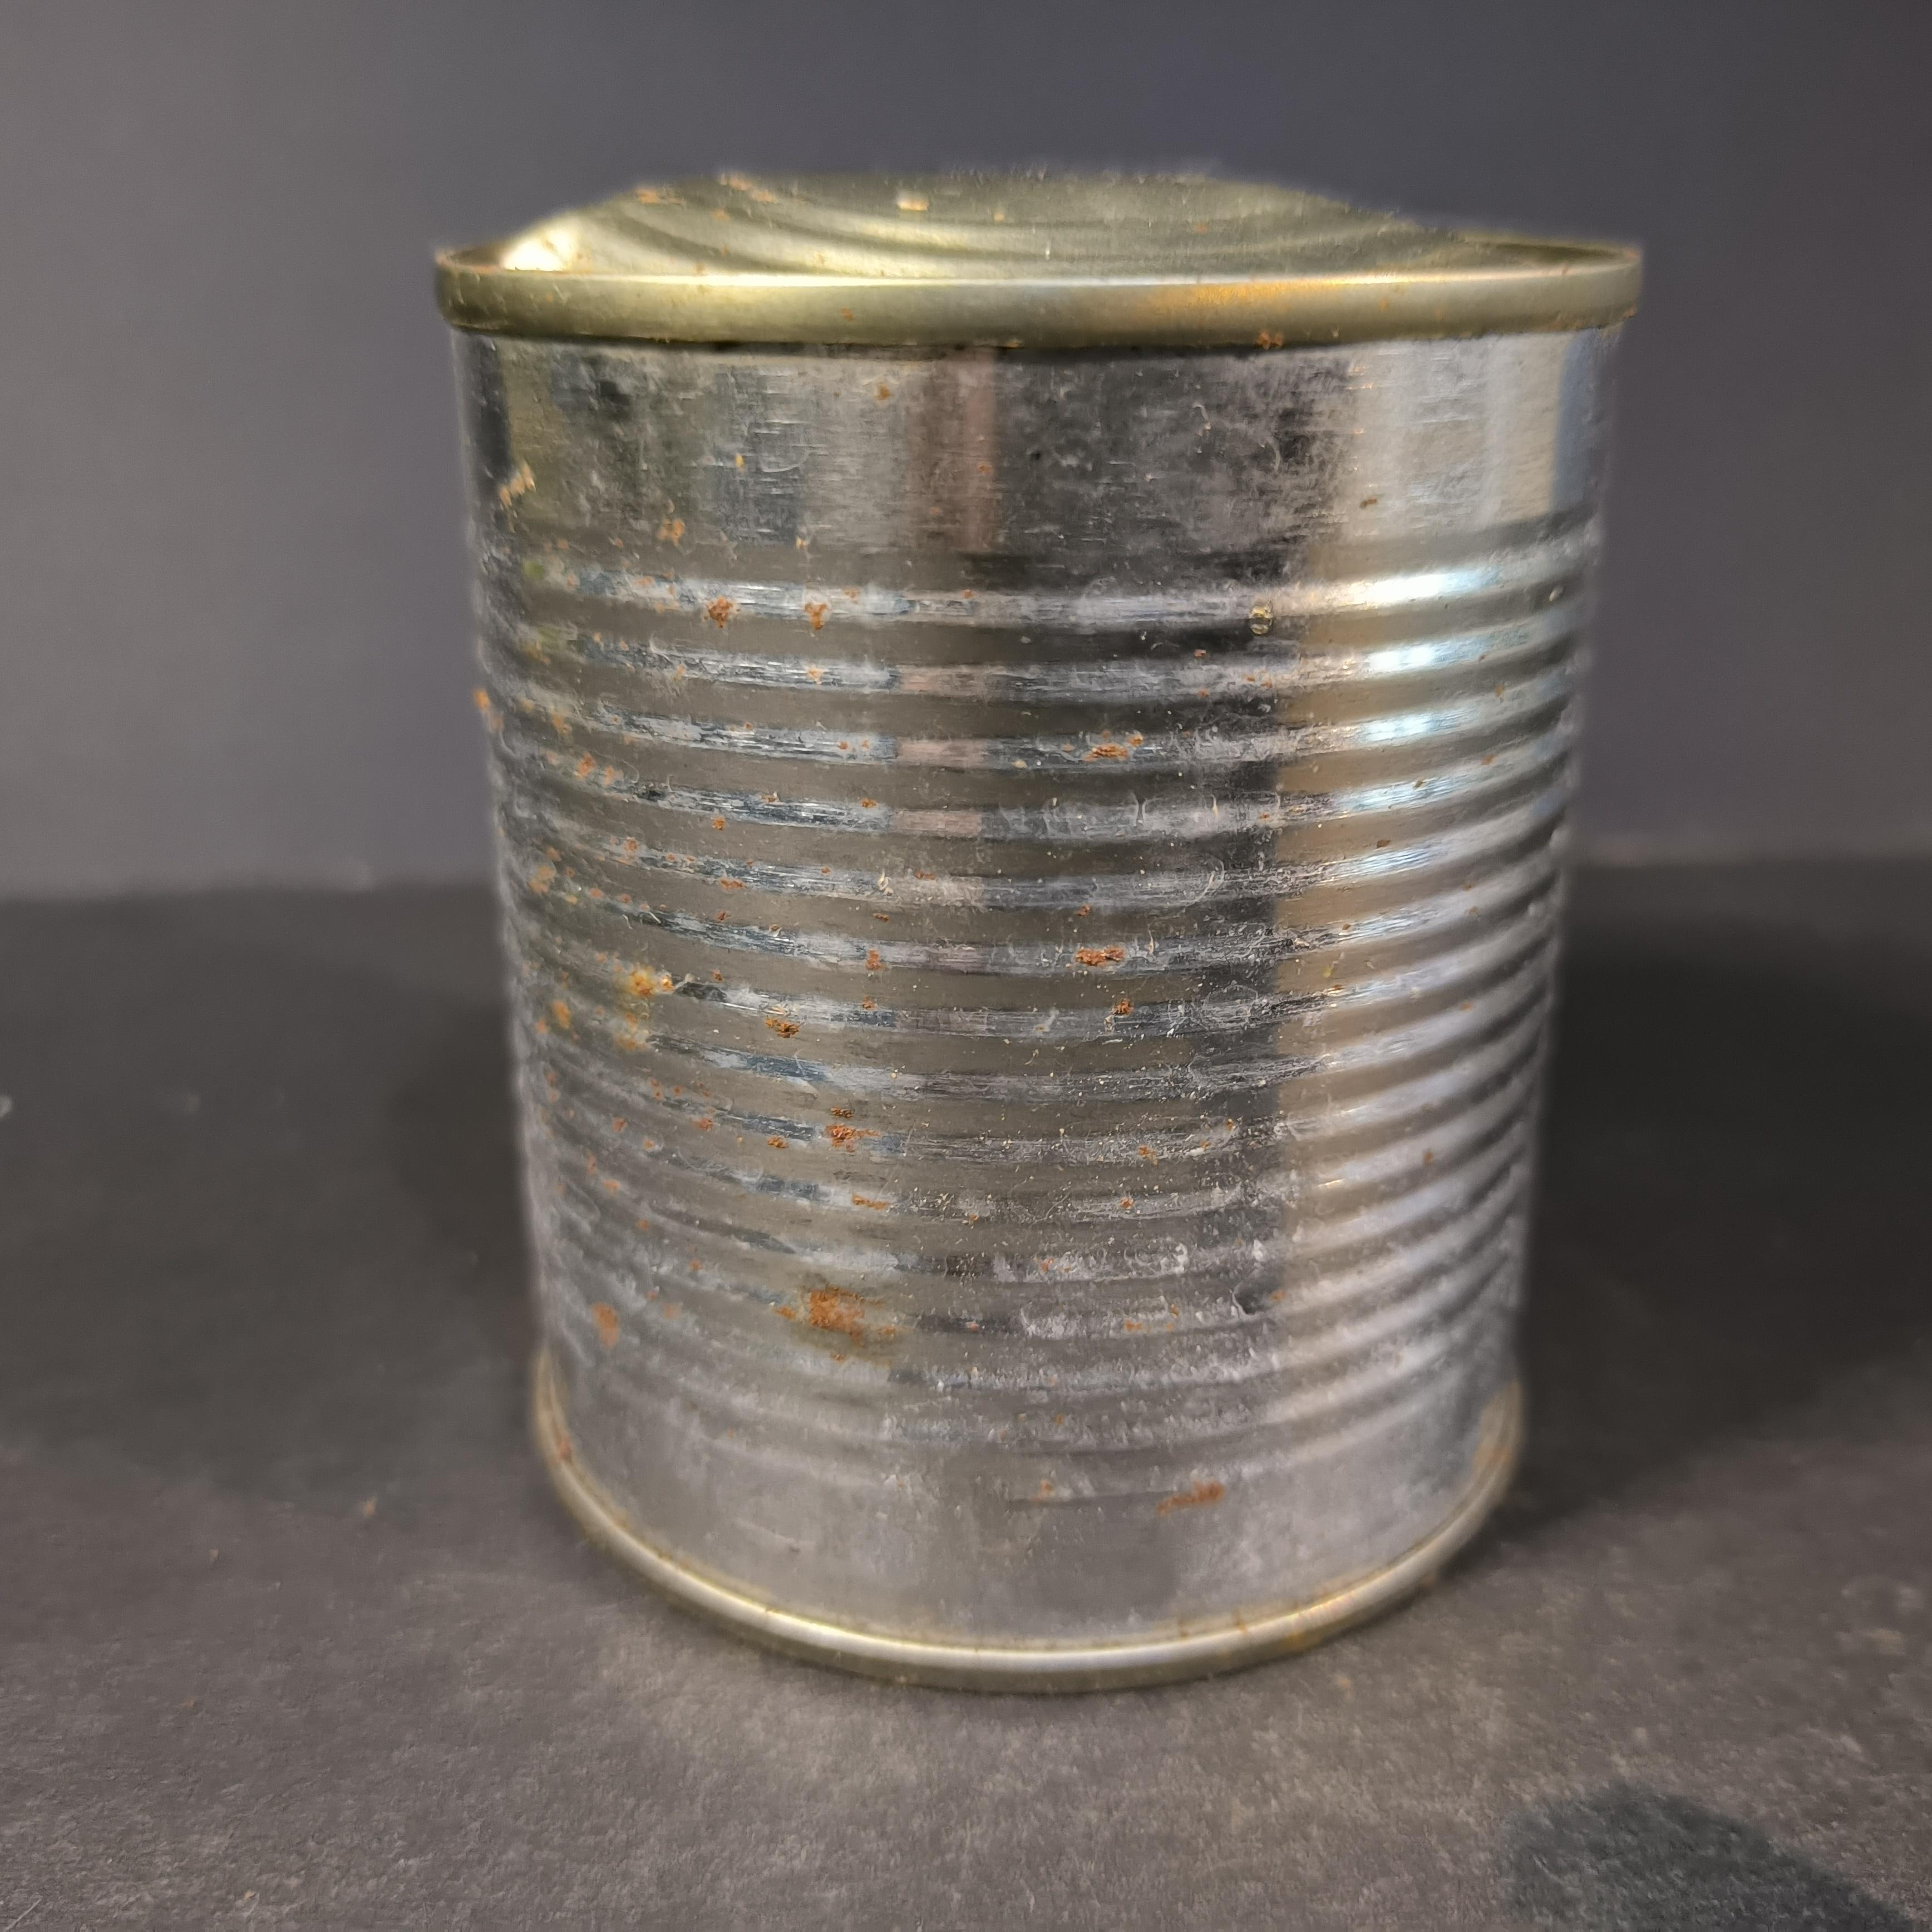Critical Defect: (425, 161, 1647, 1697)
